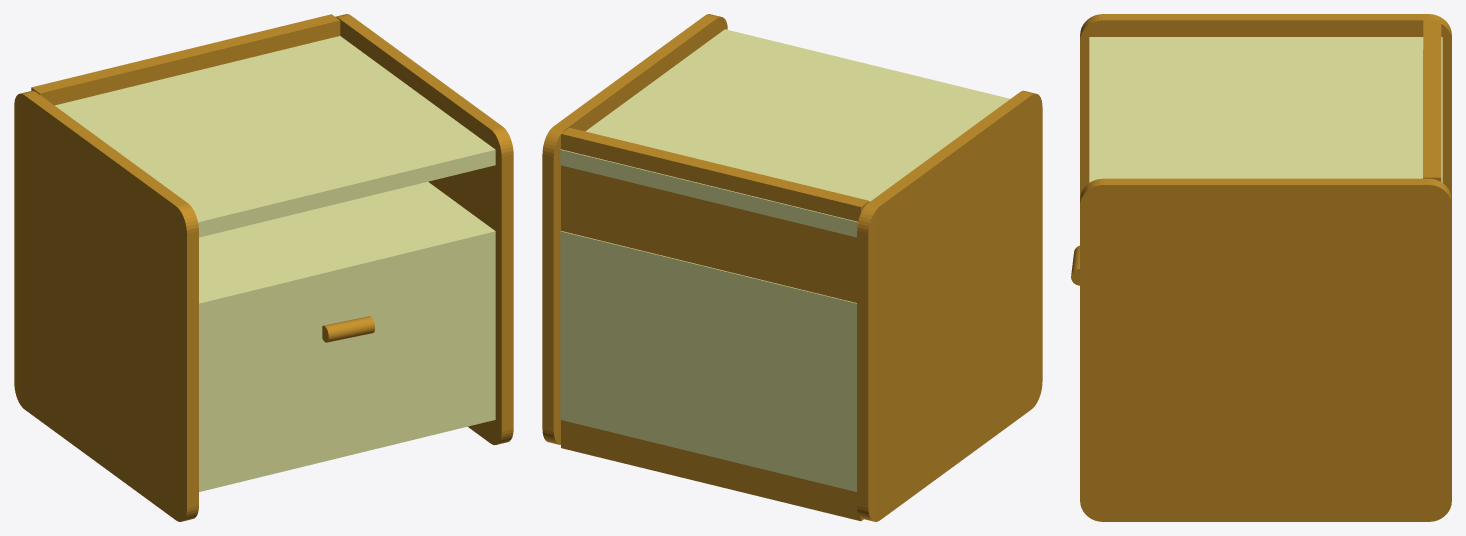
File: Nightstand.fbx
3 renders of one model, left to right at view 1: azimuth 30°, elevation 25°; view 2: azimuth 150°, elevation 25°; view 3: azimuth 270°, elevation 25°, orthographic. The views are drawn at different scales.
Parts seen in each view (by area): view 1: 立方体, 立方体.001, 立方体.002, 立方体.003, 柱体; view 2: 立方体, 立方体.001, 立方体.002, 立方体.003; view 3: 立方体, 立方体.002, 立方体.003.
Part boxes in pixels (x1,y1,x2,y2): 立方体: (14, 14, 513, 521); 立方体.001: (199, 182, 495, 491); 立方体.002: (55, 36, 495, 237); 立方体.003: (31, 14, 340, 105); 柱体: (322, 316, 374, 342); 立方体: (542, 14, 1042, 521); 立方体.001: (560, 231, 856, 491); 立方体.002: (560, 29, 1009, 237); 立方体.003: (561, 127, 869, 521); 立方体: (1080, 14, 1451, 521); 立方体.002: (1089, 37, 1442, 182); 立方体.003: (1423, 20, 1441, 181).
Size of the model in its own units: 205 by 218 by 200.
